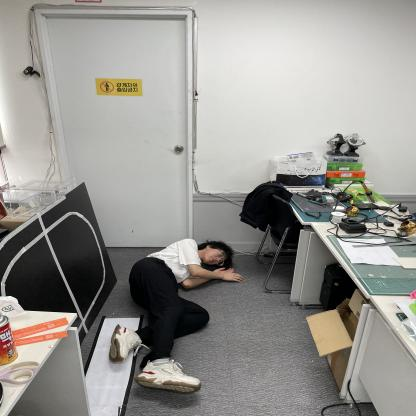fall: (108, 239, 244, 394)
